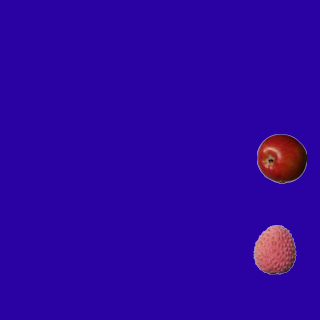Apple Braeburn: (256, 133, 306, 183)
Lychee: (249, 224, 299, 274)
